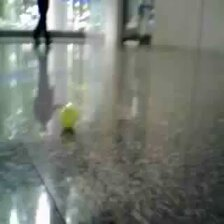tennis: (60, 108, 77, 129)
